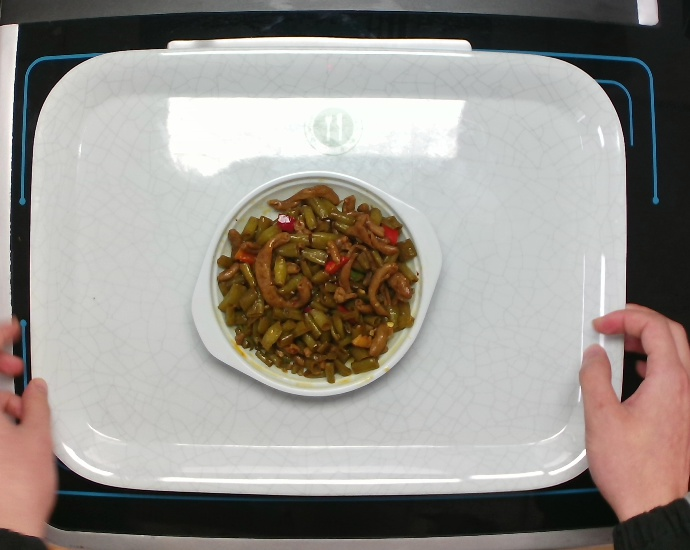JYsf-Shuang_Er_Pan: (191, 165, 446, 400)
